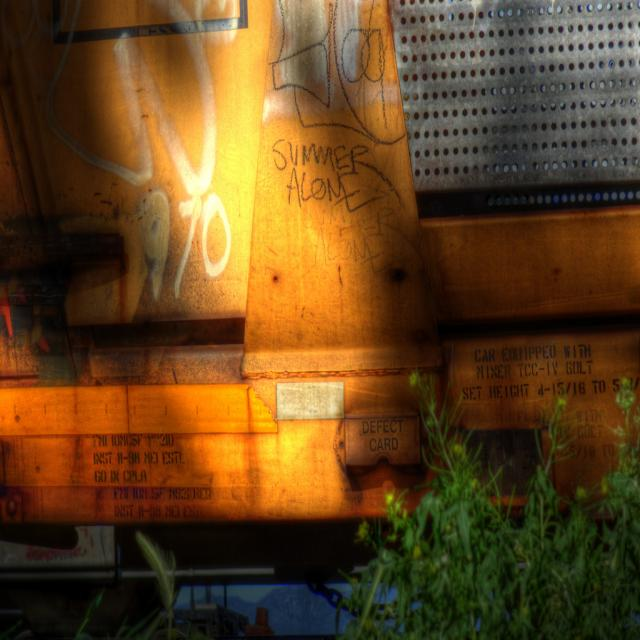no_fire: (70, 45, 540, 499)
